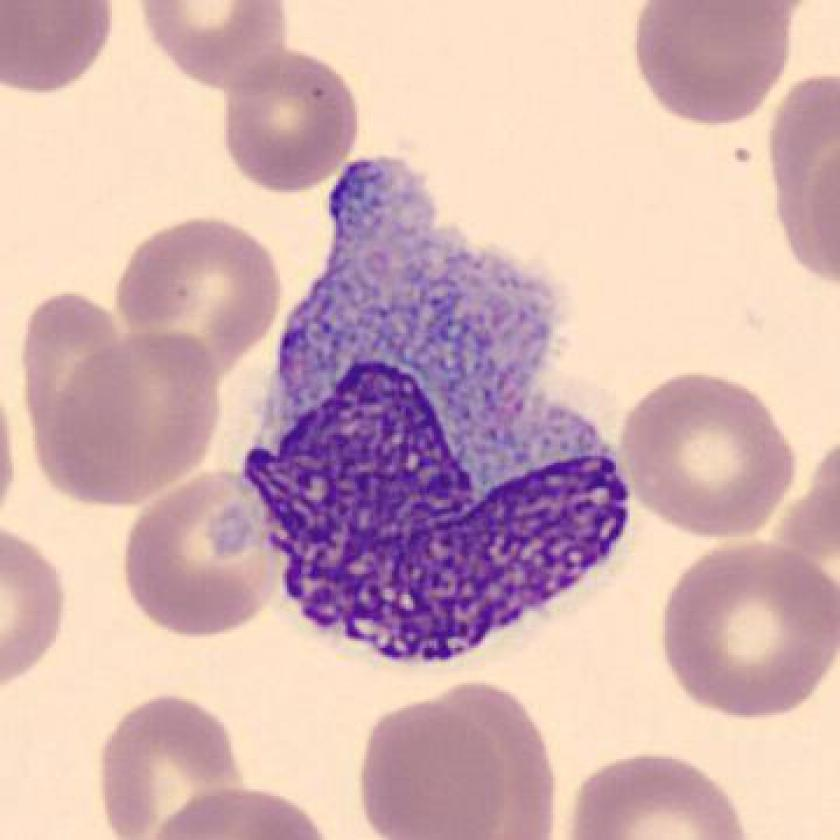monocyte: (220, 138, 650, 688)
